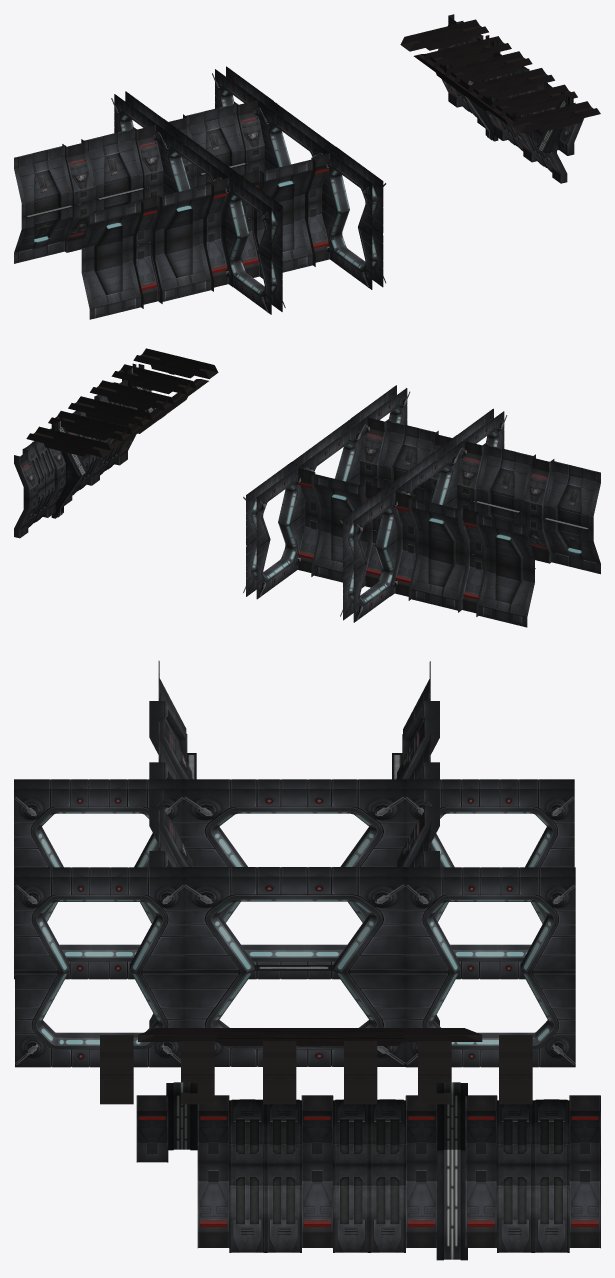
Rendered from env_fo_hallway_01_pre.glb.
3 views of the same model, one above another, from view 1: azimuth 30°, elevation 25°; view 2: azimuth 150°, elevation 25°; view 3: azimuth 270°, elevation 25° (orthographic). The views are drawn at different scales.
Visible parts, largest first — view 1: fo_wall_08_mesh (×2), fo_wall_08_mesh (12), fo_wall_08_mesh (3), fo_wall_08_mesh (6), fo_arch_03_mesh (5), fo_arch_03_mesh (2), fo_arch_03_mesh (14), fo_arch_03_mesh (12), fo_wall_08_mesh (1), fo_arch_03_mesh (3), fo_wall_08_mesh (4), fo_arch_03_mesh (+28 smaller); view 2: fo_wall_08_mesh (×2), fo_wall_09_mesh (×3), fo_wall_08_mesh (4), fo_wall_08_mesh (11), fo_wall_08_mesh (5), fo_arch_03_mesh (4), fo_arch_03_mesh (1), fo_arch_03_mesh (13), fo_arch_03_mesh (3), fo_arch_03_mesh (11), fo_wall_08_mesh (2), fo_arch_03_mesh (+27 smaller); view 3: fo_arch_03_mesh (3), fo_wall_10_mesh (1) (×2), fo_arch_03_mesh, fo_arch_03_mesh (4), fo_arch_03_mesh (5), fo_wall_10_mesh (×2), fo_arch_03_mesh (14), fo_arch_03_mesh (9), fo_arch_03_mesh (2), fo_arch_03_mesh (1), fo_wall_09_mesh (6) (×3), fo_arch_03_mesh (13) (+25 smaller).
Boxes of the visible parts, x1=… form: fo_wall_08_mesh (×2): x1=84, y1=128, x2=211, y2=243; fo_wall_08_mesh (12): x1=81, y1=248, x2=140, y2=319; fo_wall_08_mesh (3): x1=14, y1=145, x2=72, y2=216; fo_wall_08_mesh (6): x1=151, y1=231, x2=211, y2=302; fo_arch_03_mesh (5): x1=321, y1=146, x2=386, y2=236; fo_arch_03_mesh (2): x1=220, y1=171, x2=285, y2=261; fo_arch_03_mesh (14): x1=325, y1=204, x2=386, y2=289; fo_arch_03_mesh (12): x1=225, y1=228, x2=285, y2=314; fo_wall_08_mesh (1): x1=186, y1=103, x2=244, y2=174; fo_arch_03_mesh (3): x1=259, y1=101, x2=335, y2=202; fo_wall_08_mesh (4): x1=81, y1=201, x2=140, y2=260; fo_arch_03_mesh: x1=158, y1=126, x2=234, y2=192; fo_wall_08_mesh (×2): x1=410, y1=444, x2=533, y2=553; fo_wall_09_mesh (×3): x1=14, y1=449, x2=554, y2=544; fo_wall_08_mesh (4): x1=544, y1=460, x2=600, y2=528; fo_wall_08_mesh (11): x1=478, y1=559, x2=534, y2=627; fo_wall_08_mesh (5): x1=411, y1=543, x2=464, y2=610; fo_arch_03_mesh (4): x1=243, y1=462, x2=305, y2=548; fo_arch_03_mesh (1): x1=340, y1=485, x2=402, y2=571; fo_arch_03_mesh (13): x1=243, y1=516, x2=302, y2=599; fo_arch_03_mesh (3): x1=292, y1=418, x2=365, y2=514; fo_arch_03_mesh (11): x1=340, y1=540, x2=397, y2=622; fo_wall_08_mesh (2): x1=379, y1=420, x2=436, y2=488; fo_arch_03_mesh: x1=389, y1=442, x2=461, y2=505; fo_arch_03_mesh (3): x1=183, y1=867, x2=405, y2=972; fo_wall_10_mesh (1) (×2): x1=229, y1=1165, x2=405, y2=1252; fo_arch_03_mesh: x1=183, y1=779, x2=405, y2=867; fo_arch_03_mesh (4): x1=405, y1=867, x2=575, y2=972; fo_arch_03_mesh (5): x1=15, y1=867, x2=184, y2=972; fo_wall_10_mesh (×2): x1=229, y1=1099, x2=405, y2=1165; fo_arch_03_mesh (14): x1=15, y1=970, x2=184, y2=1067; fo_arch_03_mesh (9): x1=185, y1=970, x2=405, y2=1066; fo_arch_03_mesh (2): x1=14, y1=779, x2=183, y2=883; fo_arch_03_mesh (1): x1=405, y1=779, x2=574, y2=867; fo_wall_09_mesh (6) (×3): x1=197, y1=1162, x2=600, y2=1248; fo_arch_03_mesh (13): x1=405, y1=970, x2=575, y2=1067.
Bounding box in the file's own units: 50.19 × 10.29 × 28.84.
Materials: 7 (7 with a texture image).
